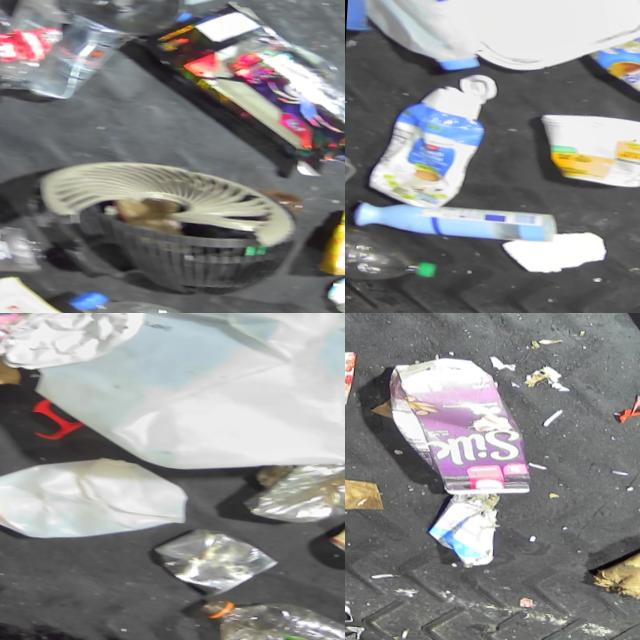can: (236, 393, 345, 529), (147, 516, 280, 596), (329, 496, 345, 563), (324, 262, 345, 313)
milk_jug: (30, 313, 345, 484), (0, 438, 193, 549), (345, 0, 490, 72)
non_white_jug: (380, 349, 537, 498)
plastic_bottle: (193, 586, 345, 640), (345, 220, 440, 287), (66, 285, 275, 313)
